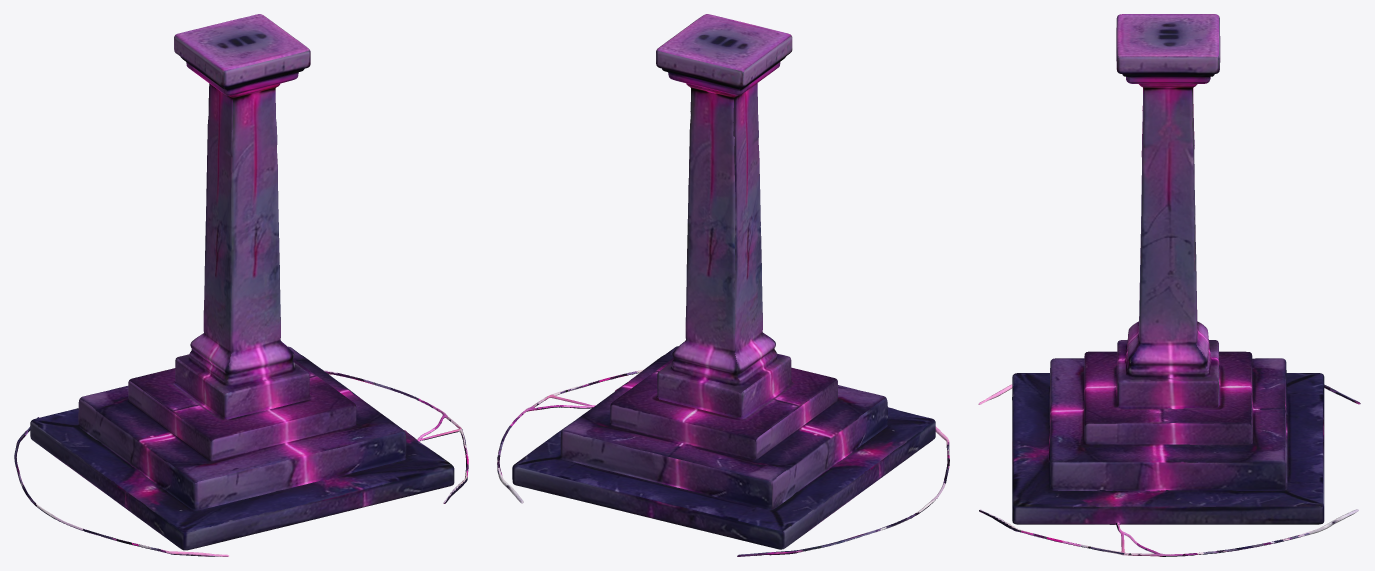
The model's file is support-column-generated-2026-05-17T18-36-48-079Z.high.glb.
3 renders of one model, left to right at view 1: azimuth 30°, elevation 25°; view 2: azimuth 150°, elevation 25°; view 3: azimuth 270°, elevation 25°, orthographic.
Visible parts, largest first — view 1: temp_mesh.ply; view 2: temp_mesh.ply; view 3: temp_mesh.ply.
Boxes of the visible parts, x1,y1,x2,y2 form: temp_mesh.ply: [14, 14, 468, 556]; temp_mesh.ply: [497, 14, 949, 556]; temp_mesh.ply: [978, 14, 1360, 556].
Size of the model in its own units: 1.97 by 1.97 by 1.61.
Materials: 1 (1 with a texture image).
